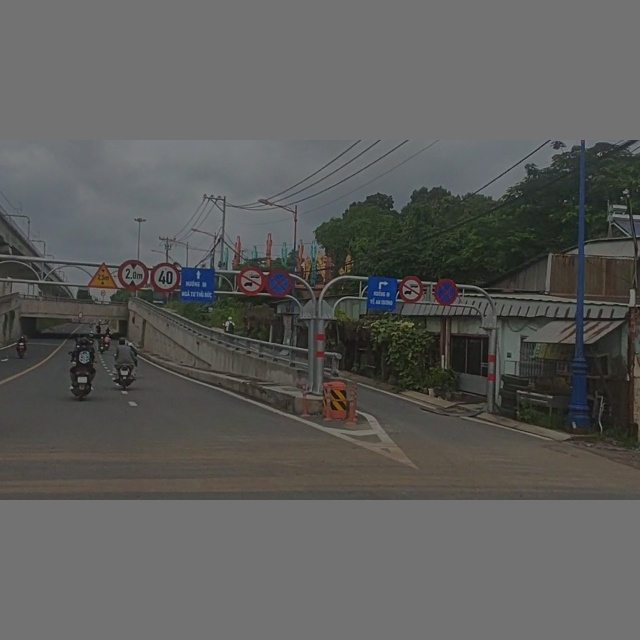P.107: (235, 267, 265, 295), (398, 275, 425, 304)
P.117*: (117, 259, 149, 290)
P.127*40: (151, 261, 180, 293)
P.130: (265, 268, 295, 297), (435, 278, 459, 305)
W.239b*: (87, 262, 117, 289)
